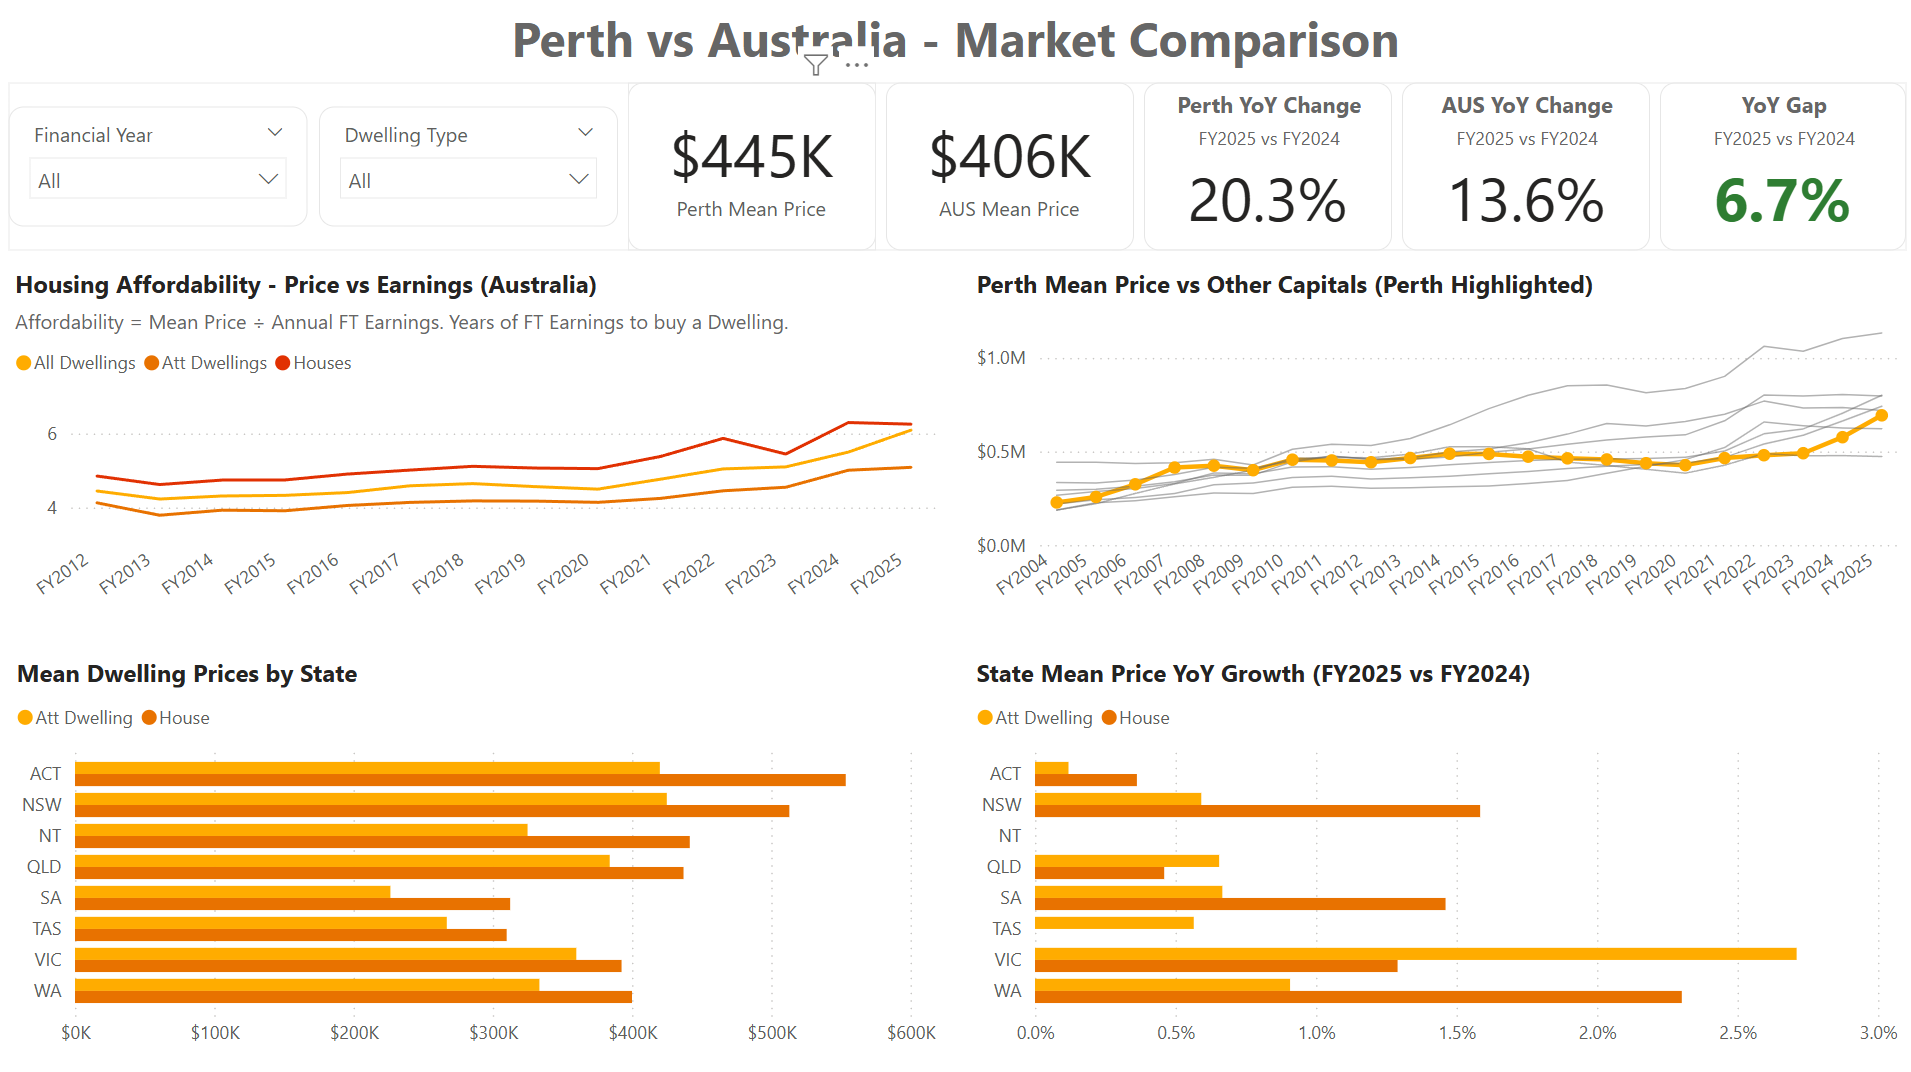

What the dashboard file says about the page in this screenshot:
{"tool":"powerbi","page":{"name":"Perth vs Australia","canvas":[1280,720],"ordinal":2},"visuals":[{"type":"textbox","box":[0,0,1280.4,56.8],"z":0},{"type":"slicer","fields":{"Values":["dim_date.FinancialYear1","dim_date.FinancialQuarter1"]},"box":[8.8,72.6,199.5,80],"z":0,"group":"g1"},{"type":"card","fields":{"Values":["My Measures.Perth Mean Price"]},"box":[422,56.6,164.6,112],"z":1000,"group":"g1"},{"type":"slicer","fields":{"Values":["dim_dwelling_type.DwellingType"]},"box":[215.4,72.6,199.5,80],"z":2000,"group":"g1"},{"type":"lineChart","title":"Housing Affordability - Price vs Earnings (Australia)","fields":{"Category":["dim_date.FinancialYear1"],"Y":["My Measures.Affordability AUS All Dwellings","My Measures.Affordability AUS Attached","My Measures.Affordability AUS House"]},"box":[7.8,179.5,624.4,242],"z":2000},{"type":"card","fields":{"Values":["My Measures.AUS Mean Price (All Dwellings)"]},"box":[593.7,56.6,164.9,112],"z":3000,"group":"g1"},{"type":"lineChart","title":"Perth Mean Price vs Other Capitals (Perth Highlighted)","fields":{"Category":["dim_date.FinancialYear1"],"Y":["My Measures.Perth Mean Price","My Measures.Sydney Mean Price","My Measures.Melbourne Mean Price","My Measures.Brisbane Mean Price","My Measures.Adelaide Mean Price","My Measures.Hobart Mean Price","My Measures.Darwin Mean Price","My Measures.Canberra Mean Price"]},"box":[648.8,179.5,624.4,242],"z":3000},{"type":"card","title":"Perth YoY Change ","fields":{"Values":["My Measures.YoY Perth Mean Price (KPI)"]},"box":[765.8,56.6,164.9,112],"z":4000,"group":"g1"},{"type":"clusteredBarChart","title":"Mean Dwelling Prices by State","fields":{"Category":["dim_gccsa.StateCode"],"Y":["My Measures.State Mean Price"],"Series":["dim_dwelling_type.DwellingType"]},"box":[8.8,439,623.4,269.3],"z":4000},{"type":"card","title":"AUS YoY Change","fields":{"Values":["My Measures.YoY AUS Mean Price (KPI)"]},"box":[937.8,56.6,164.6,112],"z":5000,"group":"g1"},{"type":"clusteredBarChart","fields":{"Category":["dim_gccsa.StateCode"],"Y":["My Measures.State Mean Price YoY"],"Series":["dim_dwelling_type.DwellingType"]},"box":[648.8,439,624.4,269.3],"z":5000},{"type":"card","title":"YoY Gap","fields":{"Values":["My Measures.YoY Gap"]},"box":[1109.5,56.6,164.6,112],"z":6000,"group":"g1"},{"type":"group","id":"g1","title":"Group 1","box":[8.8,56.6,1265.4,112.2],"z":6001}]}

Visuals, with their boxes in screenshot pixels (x1, y1, x2, y2), scaled from the page's 1280x720 canvas onto the 1911x1072 screenshot:
textbox: 0, 0, 1910, 85
slicer - dim_date.FinancialYear1 x dim_date.FinancialQuarter1: 13, 108, 311, 227
card - My Measures.Perth Mean Price: 630, 84, 876, 251
slicer - dim_dwelling_type.DwellingType: 322, 108, 619, 227
"Housing Affordability - Price vs Earnings (Australia)" lineChart: 12, 267, 944, 628
card - My Measures.AUS Mean Price (All Dwellings): 886, 84, 1133, 251
"Perth Mean Price vs Other Capitals (Perth Highlighted)" lineChart: 969, 267, 1901, 628
"Perth YoY Change " card: 1143, 84, 1390, 251
"Mean Dwelling Prices by State" clusteredBarChart: 13, 654, 944, 1055
"AUS YoY Change" card: 1400, 84, 1646, 251
clusteredBarChart - dim_gccsa.StateCode x My Measures.State Mean Price YoY: 969, 654, 1901, 1055
"YoY Gap" card: 1656, 84, 1902, 251
"Group 1" group: 13, 84, 1902, 251
